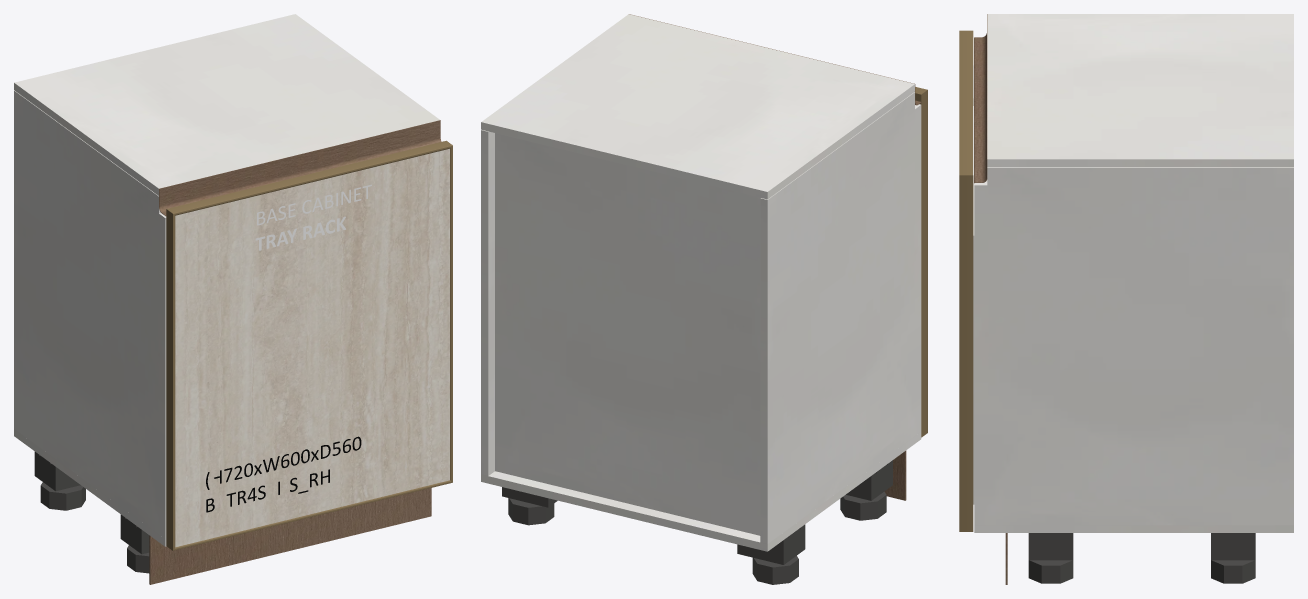
File: BC-AC-CJ-ST-TR-RHS-XXX-600-720-560-15.glb
The picture shows the model from 3 angles, left to right: view 1: azimuth 30°, elevation 25°; view 2: azimuth 150°, elevation 25°; view 3: azimuth 270°, elevation 25°; orthographic projection. The views are drawn at different scales.
Parts seen in each view (by area): view 1: Object_node_11, TP_node, TP_node_1, Object_node_13, ExtrSplGeo, Extrusion_node_1, Extrusion, 2D text_node, 2D text, TP, Extrusion_node_0, Extrusion_node (+3 smaller); view 2: TP_node_9, TP_node, TP_node_1, TP, TP_node_0, Extrusion_node_1, Plate, Foot, Foot_node_0, Foot_node, Plate_node_0, Object_node_13; view 3: TP_node_0, TP_node_1, Extrusion_node, TP, ExtrSplGeo, Extrusion, Plate_node_1, Plate_node, Foot_node_1, Foot_node, TP_node_7.
Boxes of the visible parts, x1,y1,x2,y2 form: Object_node_11: (175,148,449,547); TP_node: (14,90,166,539); TP_node_1: (14,14,439,195); Object_node_13: (149,488,431,584); ExtrSplGeo: (159,120,441,216); Extrusion_node_1: (166,209,175,550); Extrusion: (167,140,452,215); 2D text_node: (206,436,361,512); 2D text: (255,184,371,250); TP: (14,429,166,546); Extrusion_node_0: (173,480,452,550); Extrusion_node: (450,146,452,482); TP_node_9: (495,133,760,535); TP_node: (760,92,921,544); TP_node_1: (481,14,914,199); TP: (481,432,921,551); TP_node_0: (481,130,494,475); Extrusion_node_1: (915,90,927,437); Plate: (737,524,805,564); Foot: (752,555,798,584); Foot_node_0: (840,491,886,520); Foot_node: (508,498,554,525); Plate_node_0: (846,460,892,500); Object_node_13: (884,450,906,500); TP_node_0: (974,167,1293,525); TP_node_1: (987,14,1293,166); Extrusion_node: (959,175,973,531); TP: (974,525,1293,532); ExtrSplGeo: (974,14,987,183); Extrusion: (959,30,972,175); Plate_node_1: (1028,533,1073,560); Plate_node: (1211,533,1255,560); Foot_node_1: (1028,560,1073,583); Foot_node: (1211,560,1255,583); TP_node_7: (973,243,974,504).
Size of what is drawn, in the model's own units: 0.6 by 0.82 by 0.5899.
Materials: 8 (3 with a texture image).
